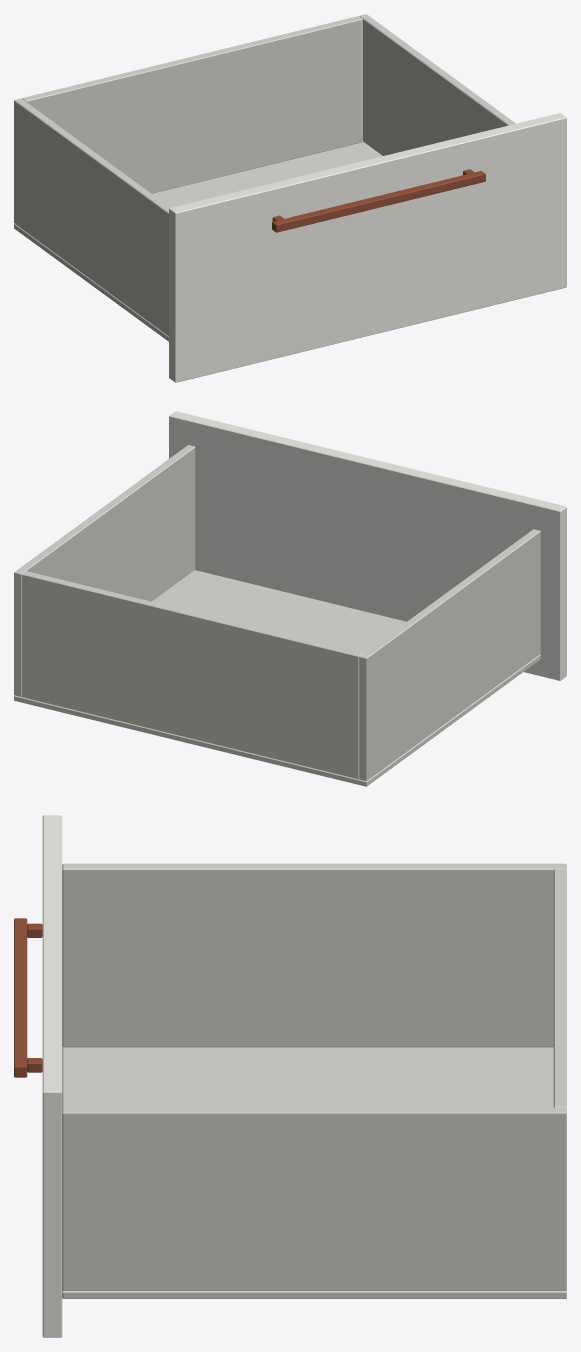
The model's file is kitchen_island_b2_middle_drawer.glb.
3 renders of one model, top to bottom at view 1: azimuth 30°, elevation 25°; view 2: azimuth 150°, elevation 25°; view 3: azimuth 270°, elevation 25°, orthographic. The views are drawn at different scales.
Parts seen in each view (by area): view 1: kitchen_island_b2_middle_drawer; view 2: kitchen_island_b2_middle_drawer; view 3: kitchen_island_b2_middle_drawer.
Part boxes in pixels (<box>): kitchen_island_b2_middle_drawer: <box>14,14,566,382</box>; kitchen_island_b2_middle_drawer: <box>14,411,566,786</box>; kitchen_island_b2_middle_drawer: <box>14,815,566,1337</box>.
Size of the model in its own units: 0.597 by 0.2478 by 0.504.
